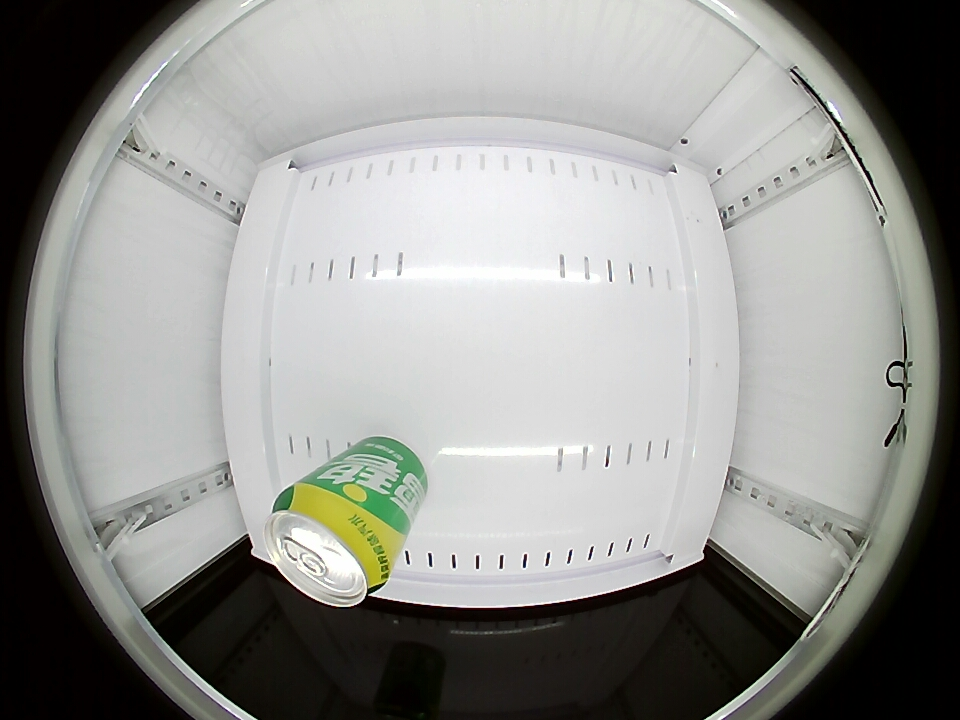xuebi2: (263, 482, 399, 607)
